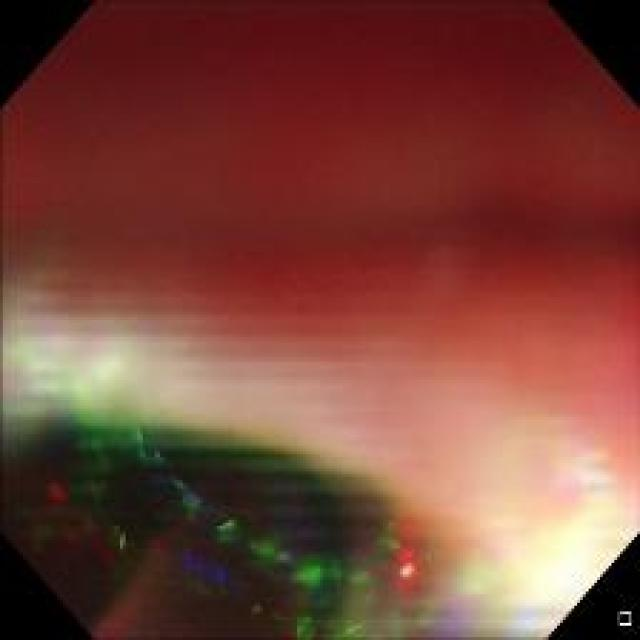color misalignment: (5, 5, 631, 628), (15, 312, 628, 629)
contrast: (11, 399, 489, 630)
instrument: (61, 432, 335, 630)
